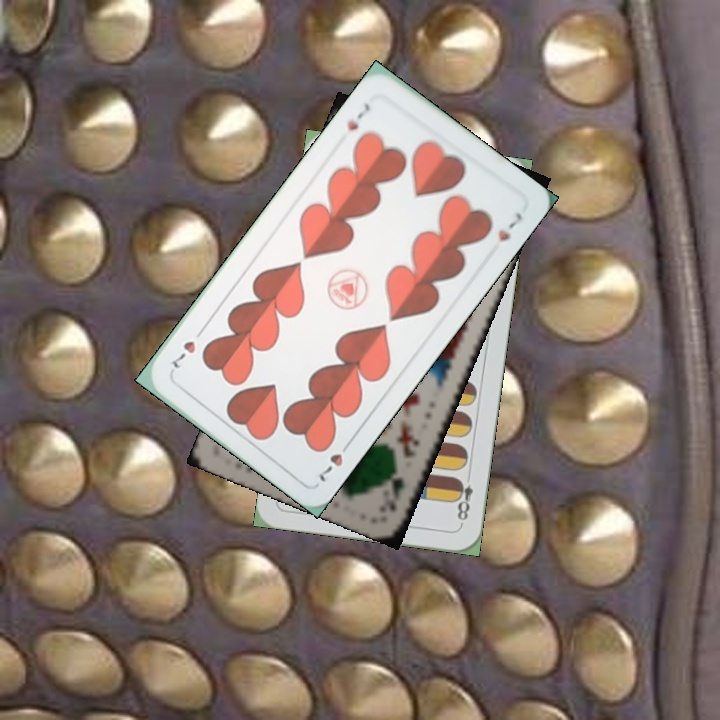E8: (451, 469, 476, 528)
GK: (376, 461, 408, 515)
H7: (314, 436, 355, 485), (342, 99, 373, 134)
